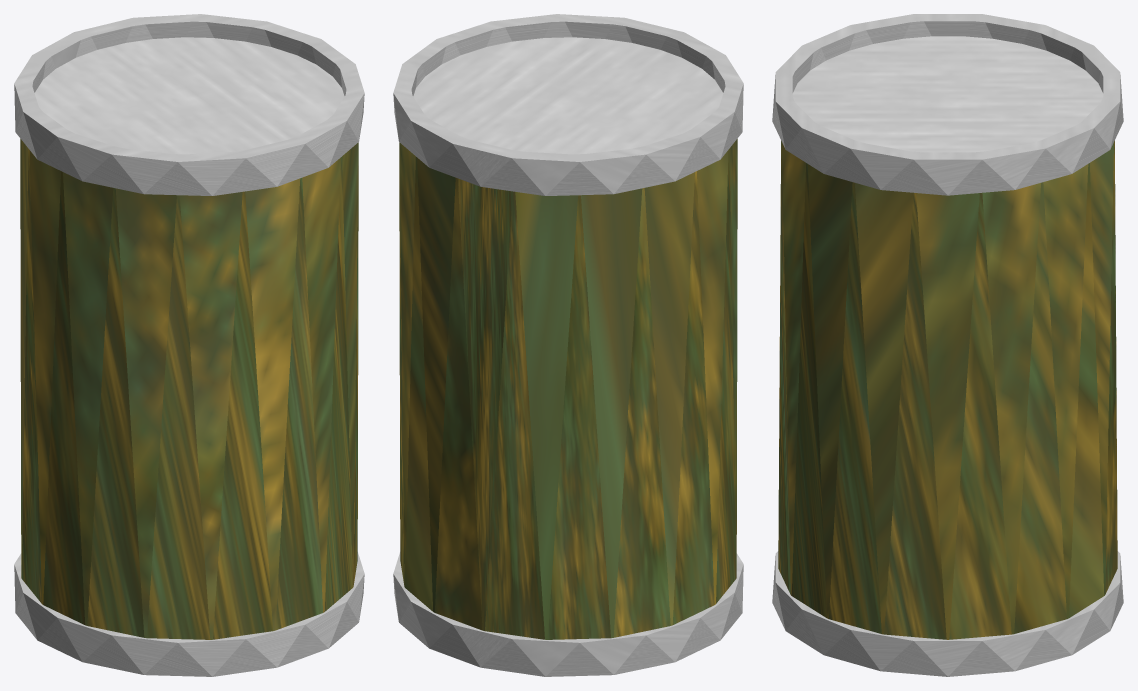
Rendered from Cola Can.glb.
3 views of the same model, side by side, from view 1: azimuth 30°, elevation 25°; view 2: azimuth 150°, elevation 25°; view 3: azimuth 270°, elevation 25° (orthographic).
Visible parts, largest first — view 1: Cylinder, Cylinder.003, Cylinder.002, Cylinder.001; view 2: Cylinder, Cylinder.003, Cylinder.002, Cylinder.001; view 3: Cylinder, Cylinder.003, Cylinder.002, Cylinder.001.
Part boxes in pixels (x1,y1,x2,y2): Cylinder: [20, 139, 358, 639]; Cylinder.003: [34, 37, 344, 154]; Cylinder.002: [14, 14, 364, 195]; Cylinder.001: [14, 552, 364, 676]; Cylinder: [399, 139, 737, 639]; Cylinder.003: [413, 37, 723, 154]; Cylinder.002: [393, 14, 743, 195]; Cylinder.001: [393, 552, 743, 676]; Cylinder: [778, 140, 1117, 639]; Cylinder.003: [792, 36, 1103, 152]; Cylinder.002: [772, 14, 1123, 195]; Cylinder.001: [772, 551, 1123, 676].
Bounding box in the file's own units: 1.32 × 2.14 × 1.32.
3 materials, 3 textured.
